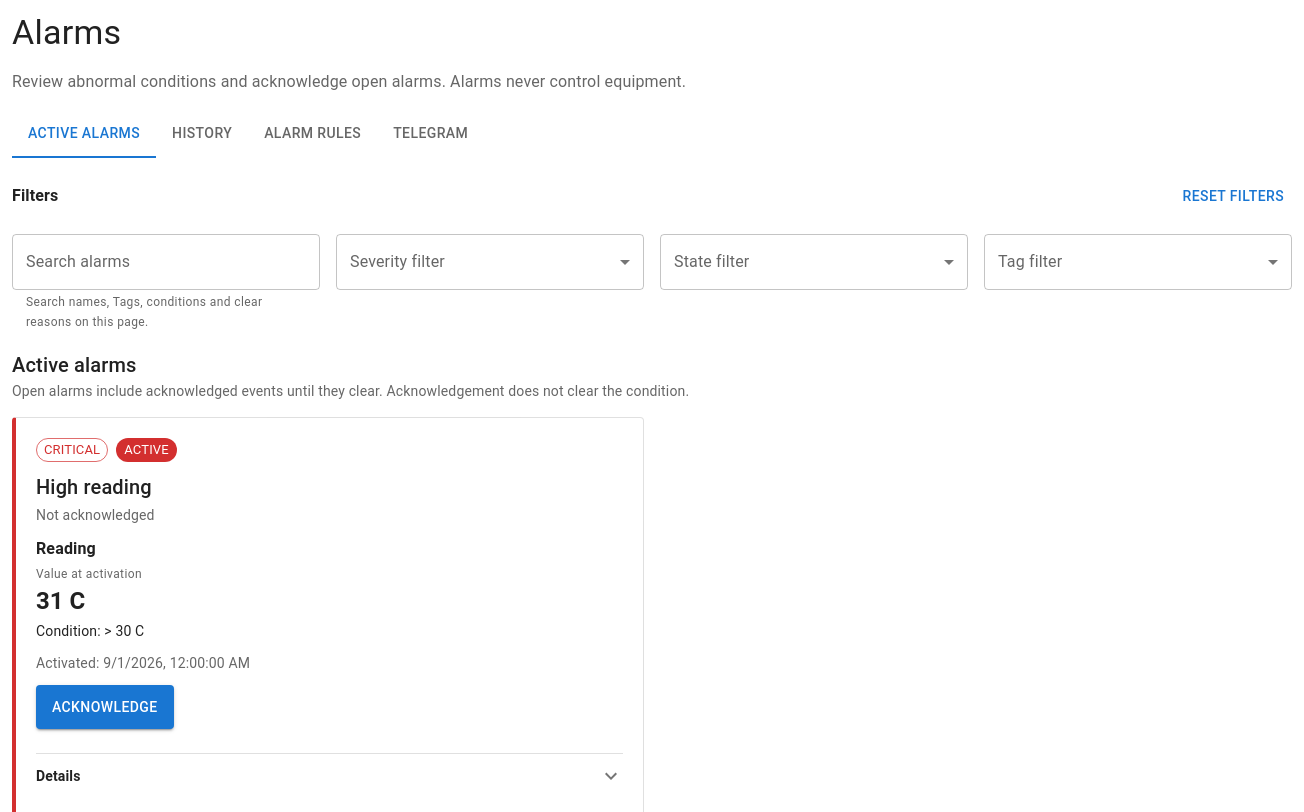
responsive alarm events › keeps Cloud acknowledgement queued until the server confirms it and moves focus safely
Click the button with aria-label "Acknowledge High reading". click: (105, 707)
box: [36,685,174,729]
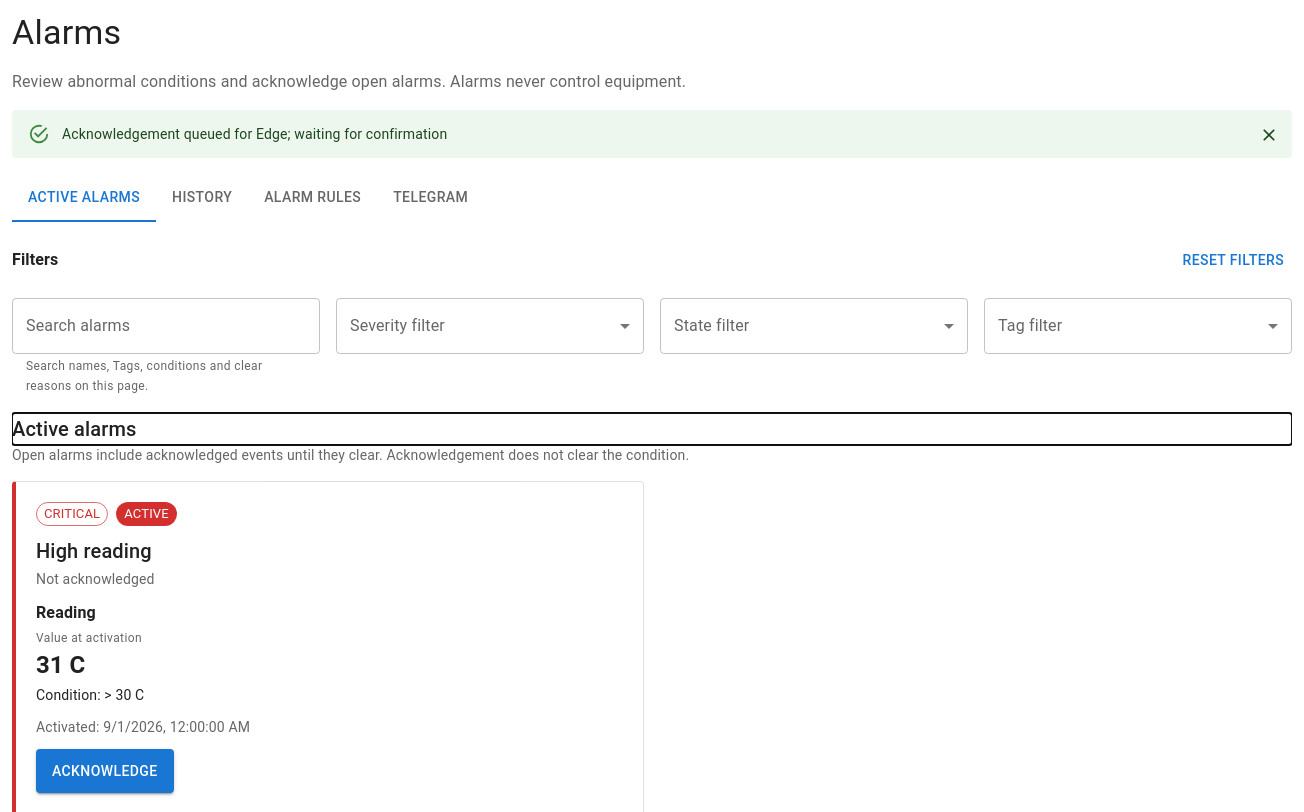
Expected: the text "ACTIVE" is shown, [124,506,169,521]
Result: the text "Acknowledgement queued for Edge; waiting for confirmation" is shown at [62,126,447,142]
